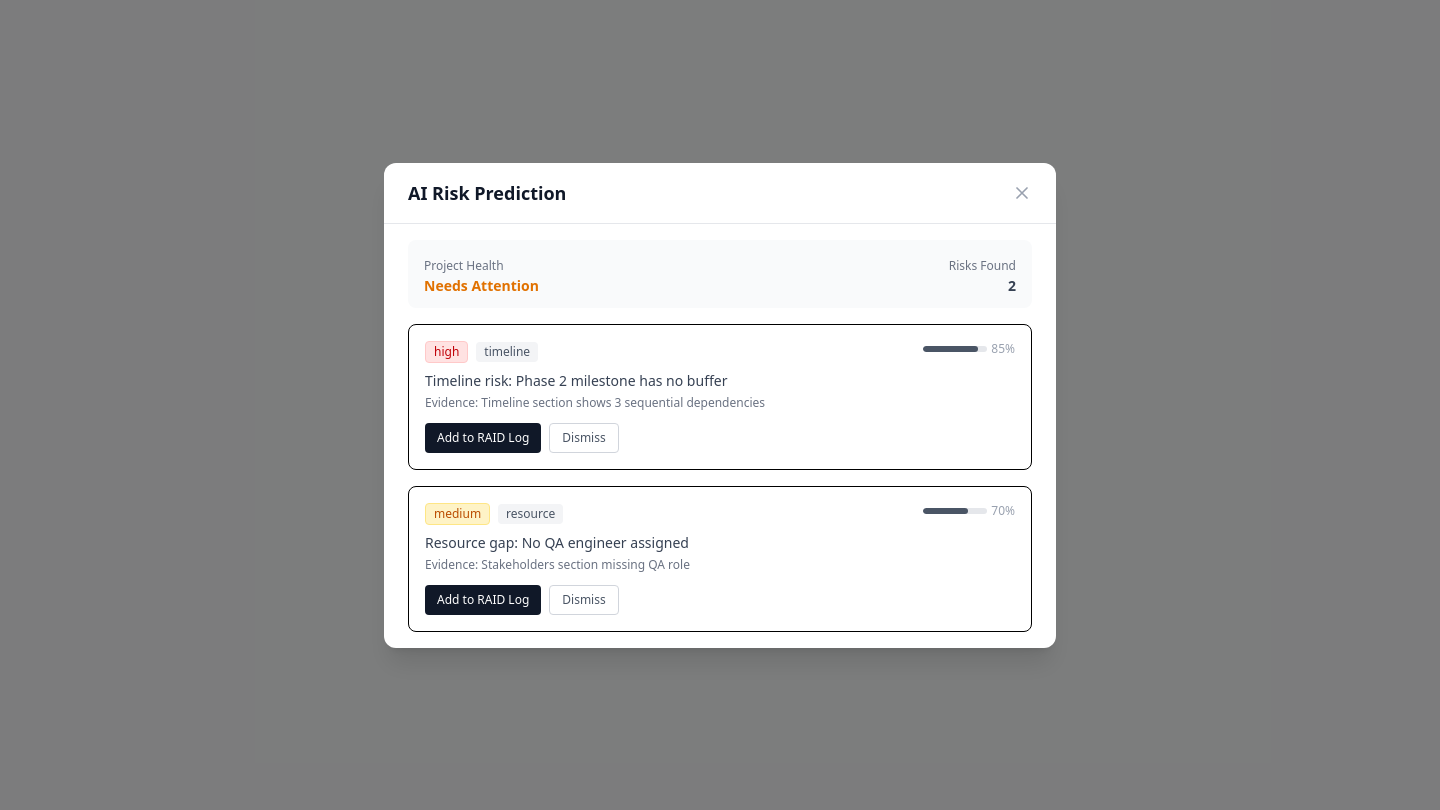
RiskPredictionPanel › dismisses prediction on click
What coordinates should you click on to do the following:
click the button "Dismiss" below "high"
I would click on:
 (584, 438)
Its box is [549,422,619,452].
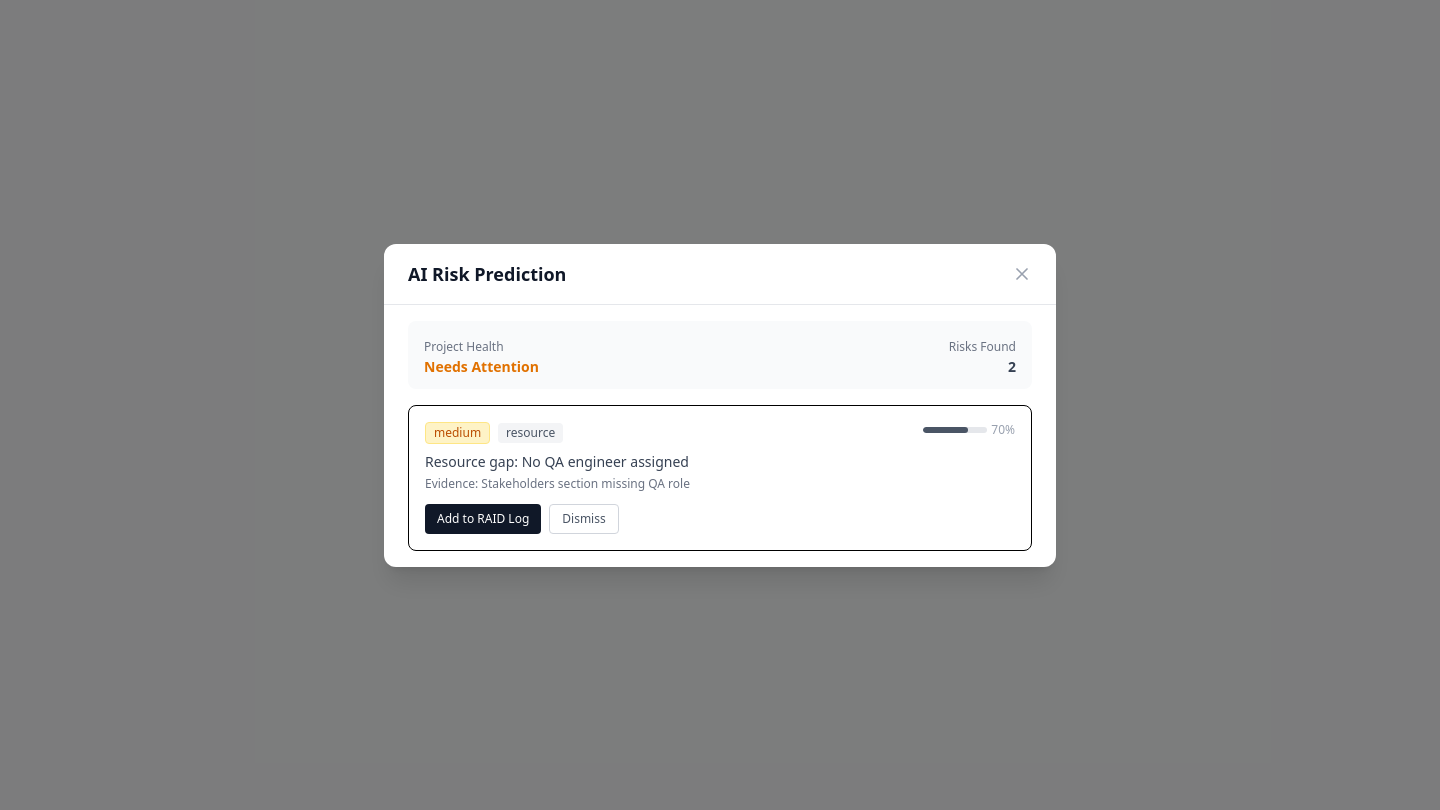
Check: the text "Resource gap: No QA engineer assigned" is shown, box [425,452,689,470]
Check: the text "Timeline risk: Phase 2 milestone has no buffer" is gone
